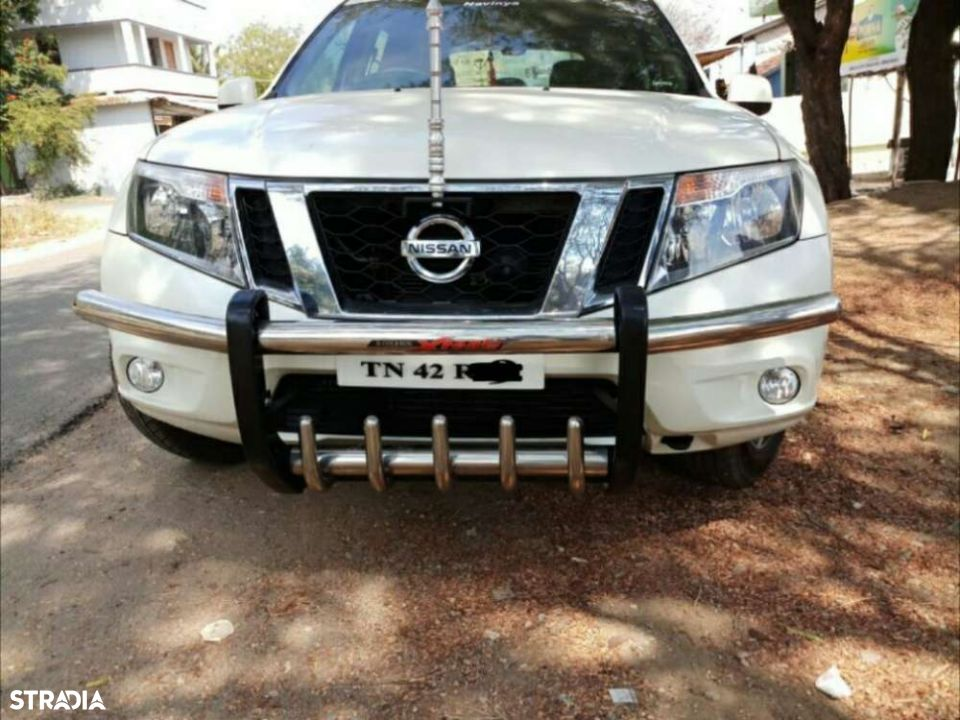number_plate: (334, 347, 553, 401)
